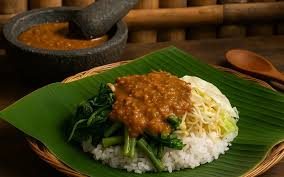Nasi pecel: (78, 65, 241, 171)
